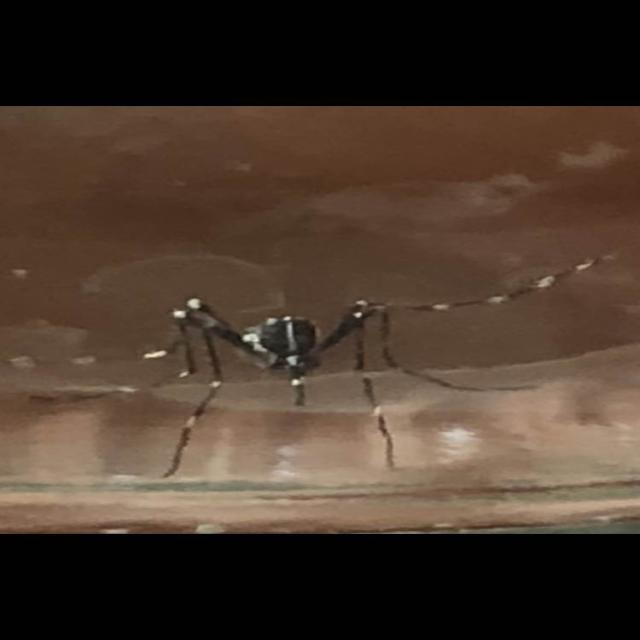albopictus: (114, 241, 605, 487)
